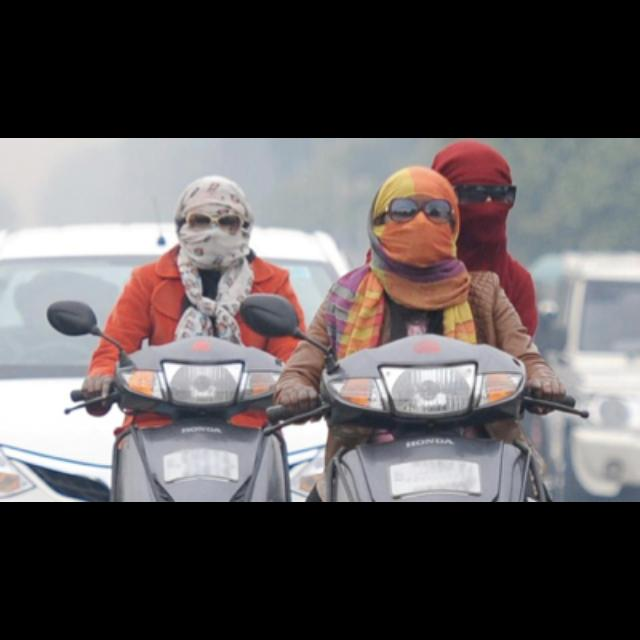Without Helmet: (368, 167, 474, 281), (170, 170, 260, 276)
